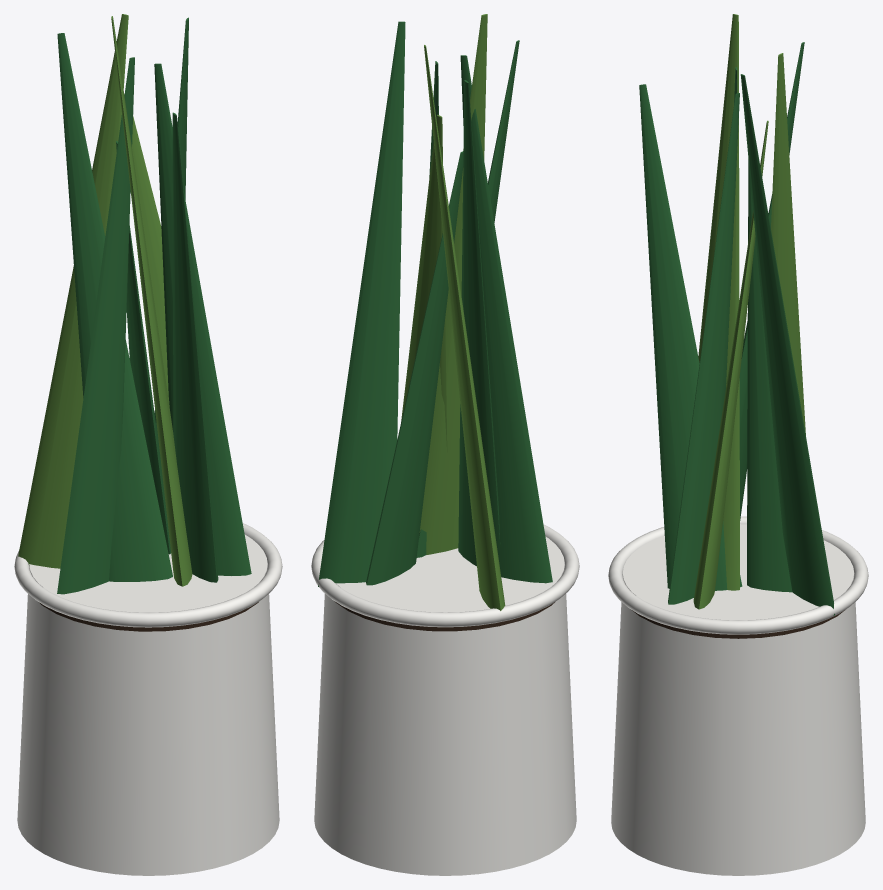
File: herodesk-office-plant.glb
3 renders of one model, left to right at view 1: azimuth 30°, elevation 25°; view 2: azimuth 150°, elevation 25°; view 3: azimuth 270°, elevation 25°, orthographic. The views are drawn at different scales.
Parts seen in each view (by area): view 1: herodesk-office-plant · mesh; view 2: herodesk-office-plant · mesh; view 3: herodesk-office-plant · mesh.
Part boxes in pixels (left/top/right/bottom): herodesk-office-plant · mesh: left=14, top=14, right=282, bottom=875; herodesk-office-plant · mesh: left=311, top=14, right=579, bottom=875; herodesk-office-plant · mesh: left=608, top=14, right=868, bottom=875.
Bounding box in the file's own units: 0.09 × 0.3011 × 0.09.
